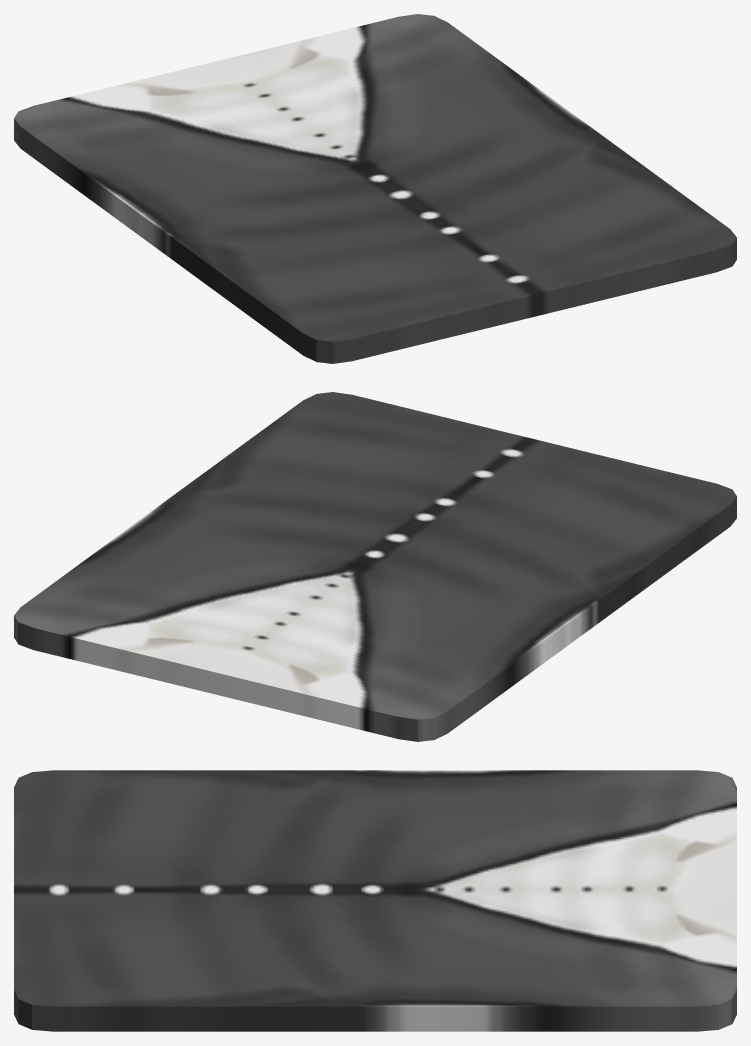
The model's file is Doblada-2.FBX.
3 views of the same model, one above another, from view 1: azimuth 30°, elevation 25°; view 2: azimuth 150°, elevation 25°; view 3: azimuth 270°, elevation 25° (orthographic). The views are drawn at different scales.
Visible parts, largest first — view 1: Box001; view 2: Box001; view 3: Box001.
Boxes of the visible parts, x1=… form: Box001: x1=14, y1=14, x2=736, y2=363; Box001: x1=14, y1=392, x2=736, y2=741; Box001: x1=14, y1=770, x2=736, y2=1031.
Size of the model in its own units: 52.85 by 68.3 by 2.62.
